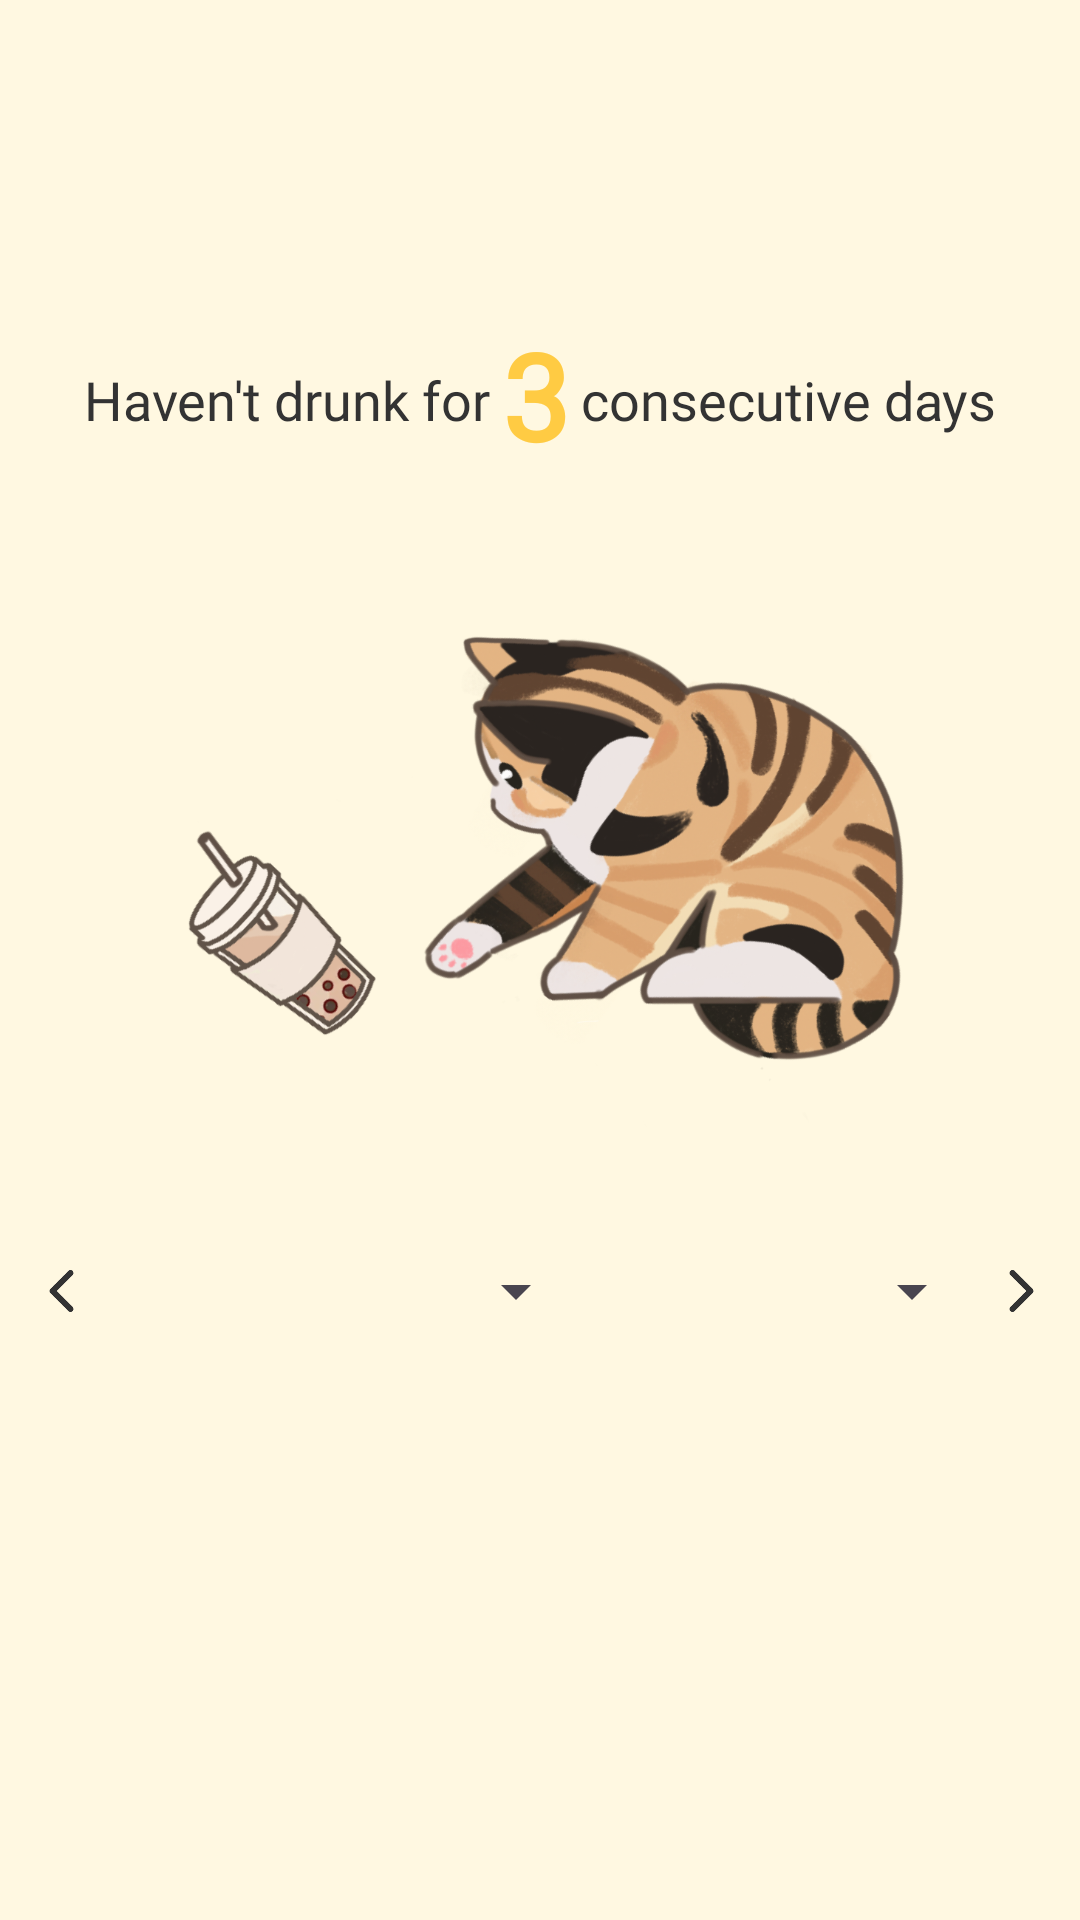

Point at icon controls on the screen. Image size 1080w x 1920h, points as [x,y].
Next Month: [1021,1291]
Previous Month: [61,1291]
